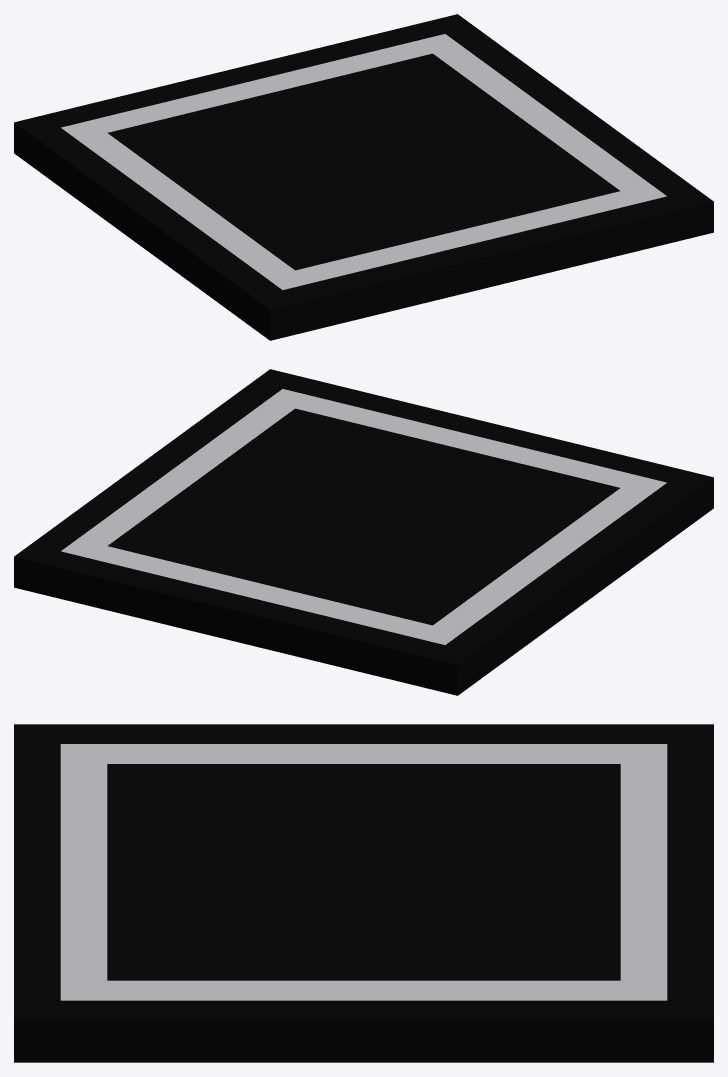
File: dungeon_d_a_ground_b_a.obj
3 views of the same model, one above another, from view 1: azimuth 30°, elevation 25°; view 2: azimuth 150°, elevation 25°; view 3: azimuth 270°, elevation 25° (orthographic). The views are drawn at different scales.
Size of the model in its own units: 1.5 by 0.1 by 1.5.
1 material, 1 textured.
